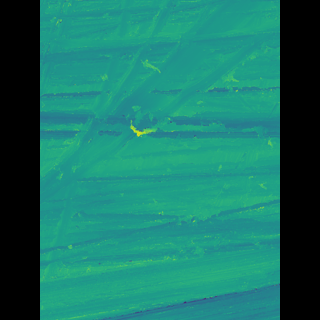Loch: (70, 0, 250, 219)
